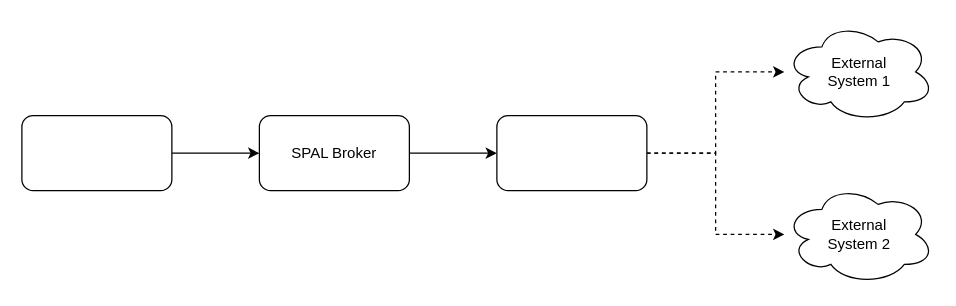
Image size: 956x306. Some labels were removed from this diagram. Each missing label, with the centre of its shape:
"SPAL Client" goes at [571,152].
"SPAL Service" goes at [96,152].
